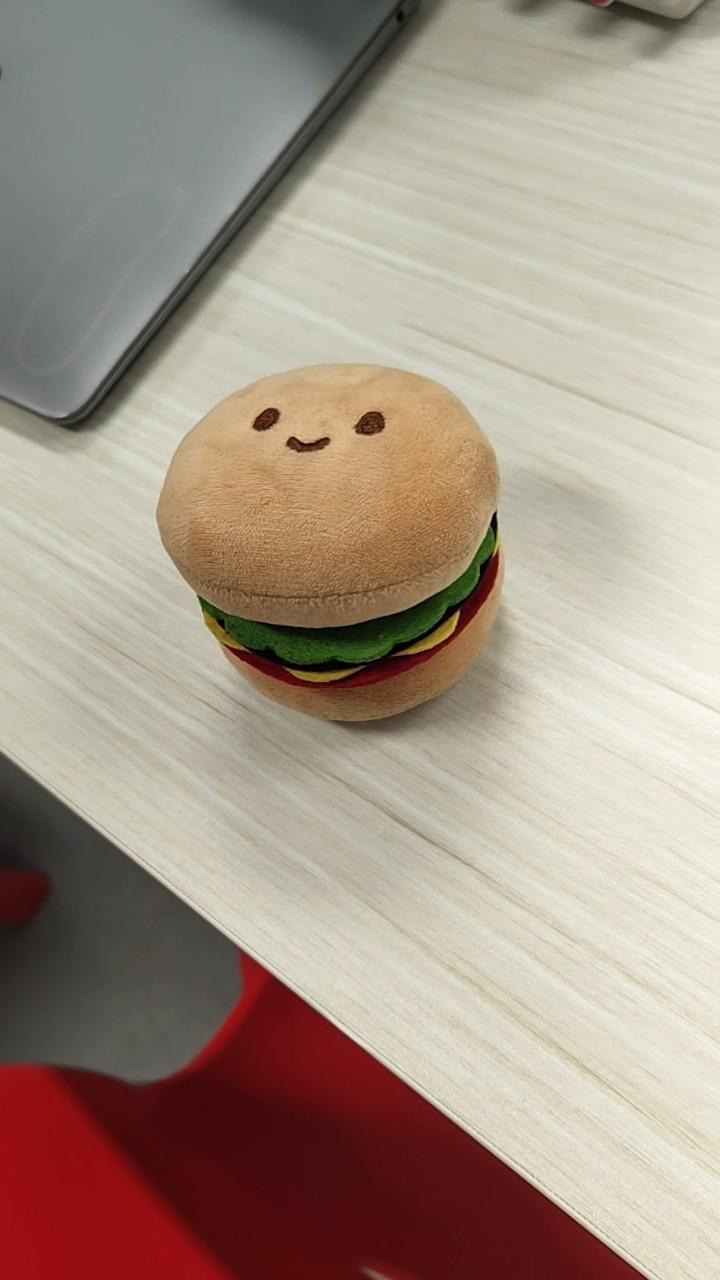hamburger: (154, 360, 505, 724)
